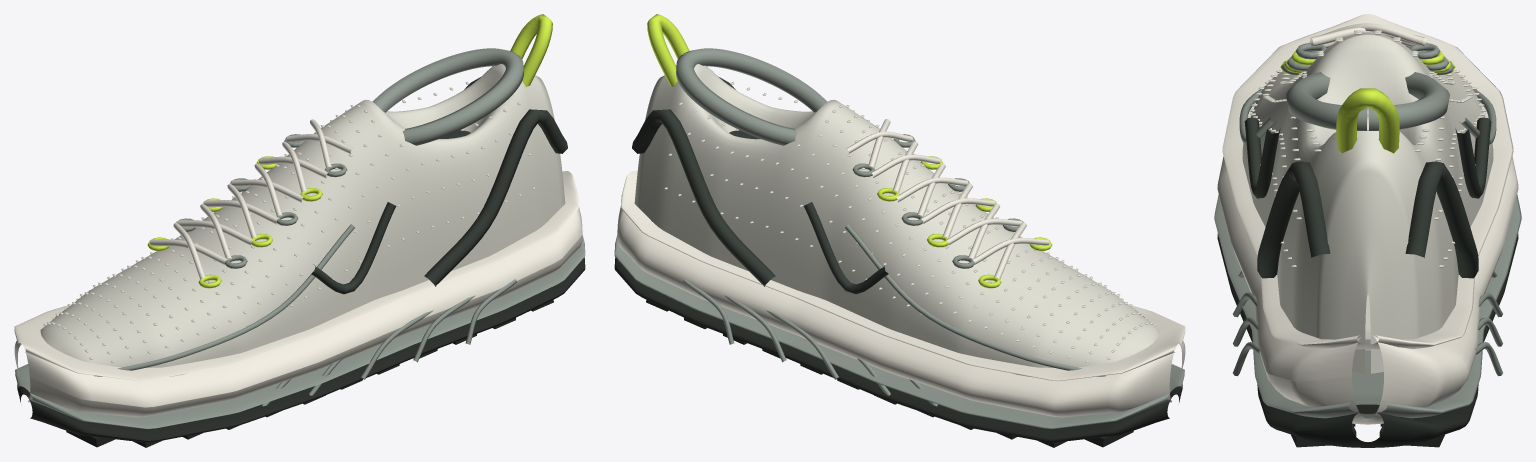
The model's file is vanta-concept.glb.
The picture shows the model from 3 angles, left to right: view 1: azimuth 30°, elevation 25°; view 2: azimuth 150°, elevation 25°; view 3: azimuth 270°, elevation 25°; orthographic projection. The views are drawn at different scales.
Visible parts, largest first — view 1: explode_upper_3, explode_foam_1, explode_foam_2, explode_outsole_0, explode_upper_5, explode_upper_4, explode_upper_7, explode_upper_6; view 2: explode_upper_3, explode_foam_1, explode_foam_2, explode_outsole_0, explode_upper_5, explode_upper_4, explode_upper_7, explode_upper_6; view 3: explode_upper_3, explode_foam_1, explode_upper_4, explode_foam_2, explode_upper_5, explode_outsole_0, explode_upper_6, explode_upper_7.
Part boxes in pixels (<box>): explode_upper_3: <box>40,64,565,376</box>; explode_foam_1: <box>14,171,582,417</box>; explode_foam_2: <box>15,235,585,428</box>; explode_outsole_0: <box>17,257,585,447</box>; explode_upper_5: <box>52,48,523,376</box>; explode_upper_4: <box>311,77,567,294</box>; explode_upper_7: <box>150,119,353,280</box>; explode_upper_6: <box>147,14,552,288</box>; explode_upper_3: <box>634,64,1159,376</box>; explode_foam_1: <box>617,171,1185,417</box>; explode_foam_2: <box>614,235,1184,428</box>; explode_outsole_0: <box>614,257,1182,447</box>; explode_upper_5: <box>676,48,1147,376</box>; explode_upper_4: <box>632,77,888,294</box>; explode_upper_7: <box>846,119,1049,279</box>; explode_upper_6: <box>647,14,1052,288</box>; explode_upper_3: <box>1242,30,1493,373</box>; explode_foam_1: <box>1217,14,1518,424</box>; explode_upper_4: <box>1244,117,1491,278</box>; explode_foam_2: <box>1214,194,1521,418</box>; explode_upper_5: <box>1239,43,1496,144</box>; explode_outsole_0: <box>1217,233,1518,447</box>; explode_upper_6: <box>1280,51,1455,153</box>; explode_upper_7: <box>1306,23,1428,51</box>.
Bounding box in the file's own units: 3.05 × 1.57 × 1.05.
